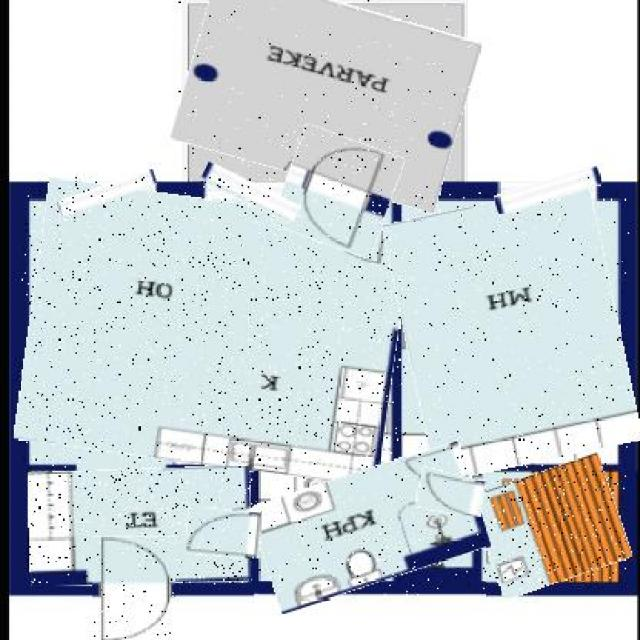door: (280, 131, 397, 252), (94, 536, 177, 638), (188, 509, 262, 558), (417, 471, 485, 515)
window: (200, 172, 302, 214), (494, 172, 601, 208), (57, 177, 158, 208)
zone: (22, 189, 406, 477), (394, 191, 629, 472), (178, 0, 472, 194), (254, 458, 486, 600), (29, 469, 252, 586), (476, 462, 626, 589)
